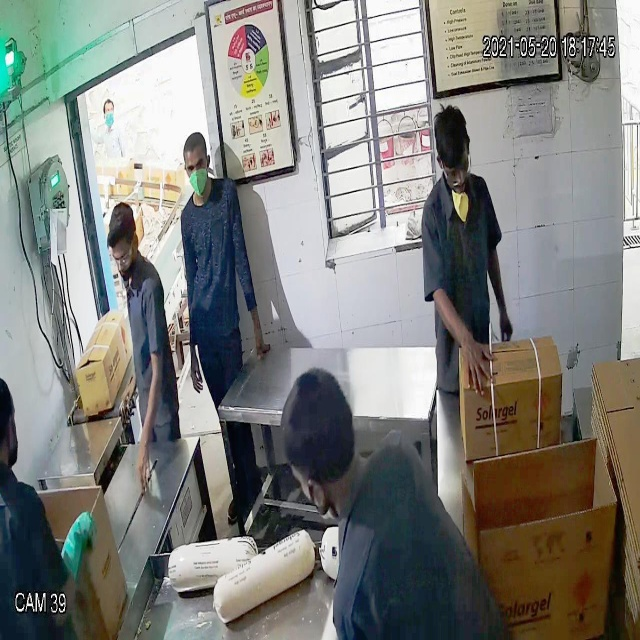Gafas: (440, 155, 476, 187), (106, 242, 136, 267)
Sin_gafas: (181, 155, 211, 179)
